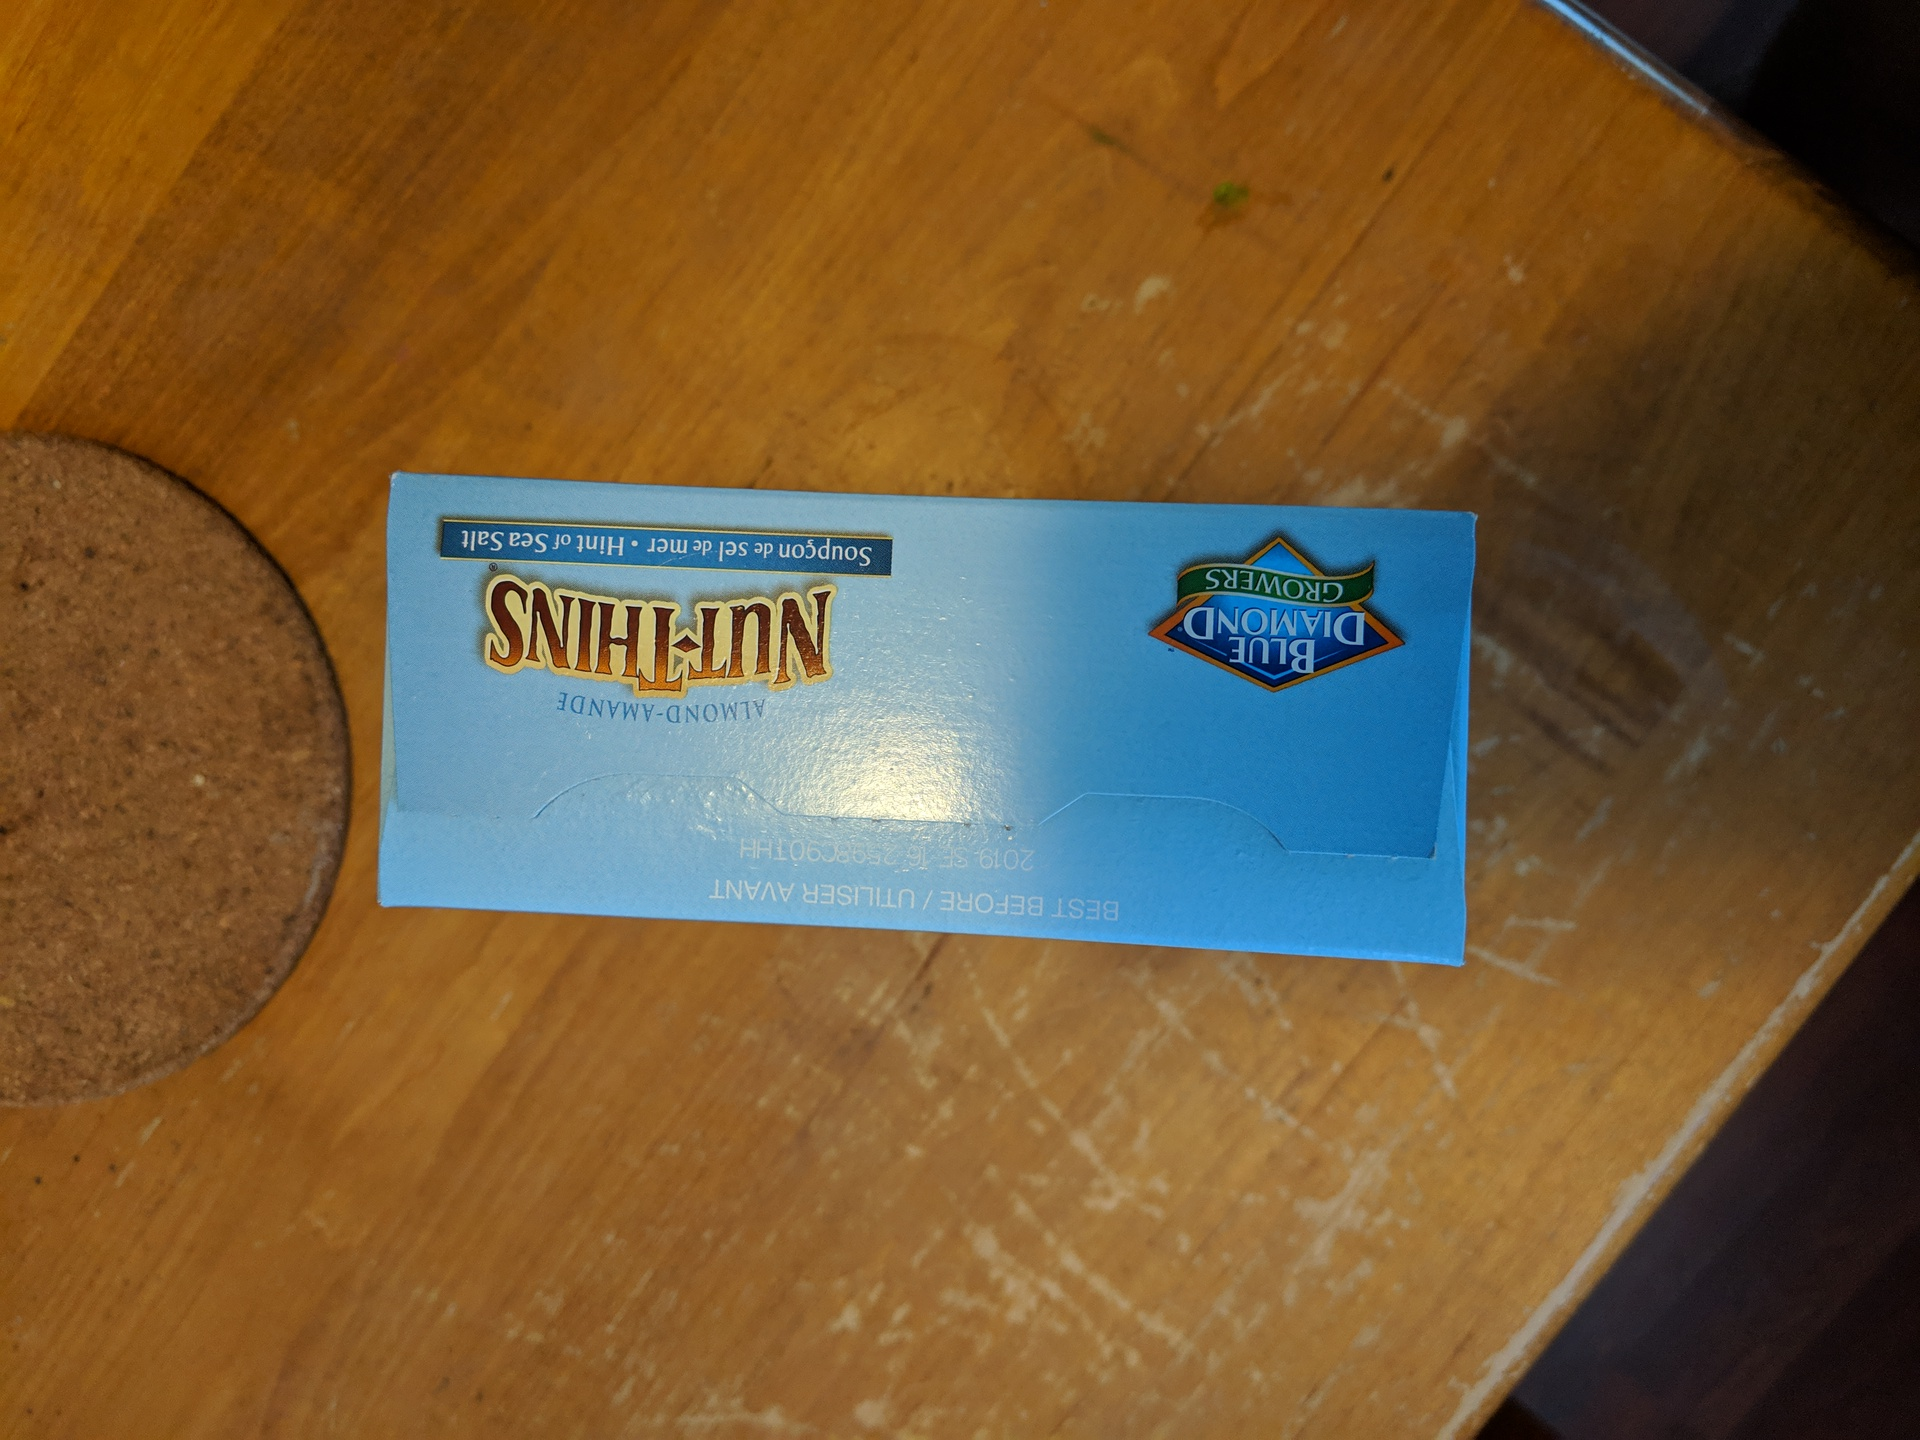blue_diamond_nut_thins_almond_seasalt: (379, 467, 1473, 968)
